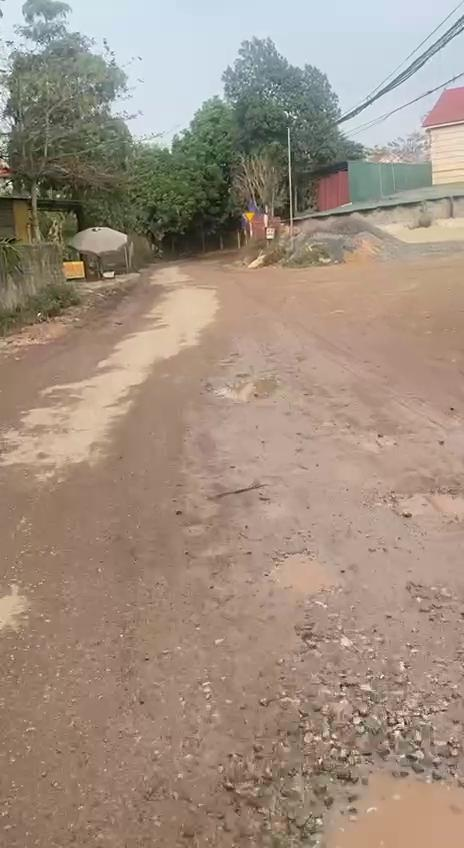pothole: (282, 748, 464, 848), (268, 540, 340, 610), (383, 482, 464, 534)
